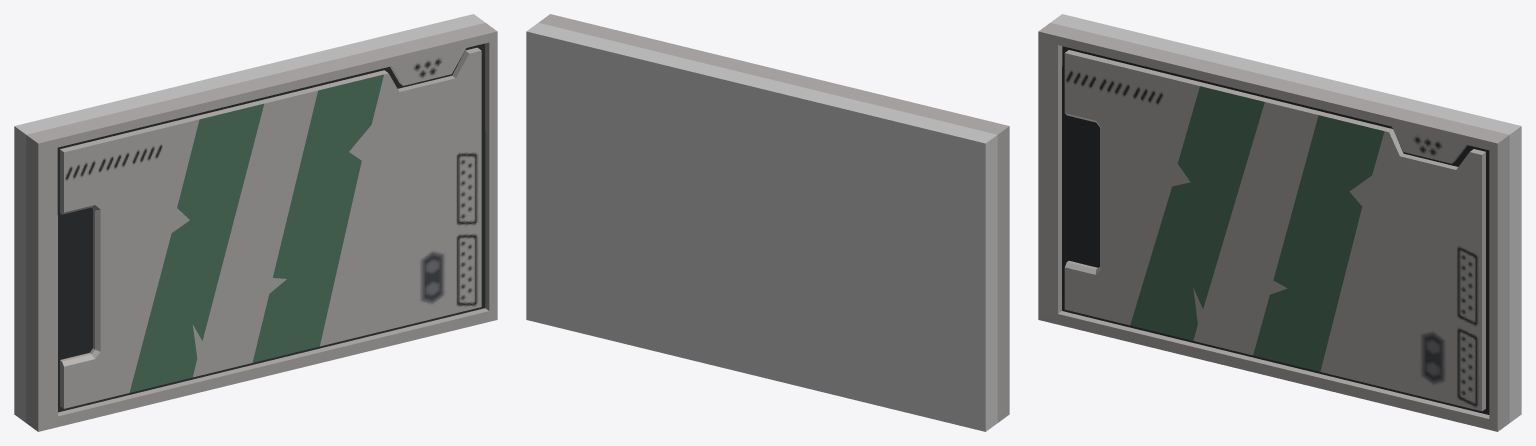
File: SM_Bld_Wall_Half_02.fbx
The picture shows the model from 3 angles, left to right: view 1: azimuth 30°, elevation 25°; view 2: azimuth 150°, elevation 25°; view 3: azimuth 330°, elevation 25°; orthographic projection.
Parts seen in each view (by area): view 1: SM_Bld_Wall_Half_02; view 2: SM_Bld_Wall_Half_02; view 3: SM_Bld_Wall_Half_02.
Boxes of the visible parts, x1=… form: SM_Bld_Wall_Half_02: x1=14, y1=14, x2=497, y2=431; SM_Bld_Wall_Half_02: x1=526, y1=14, x2=1009, y2=431; SM_Bld_Wall_Half_02: x1=1038, y1=14, x2=1521, y2=431.
Bounding box in the file's own units: 250 × 150 × 22.61.
